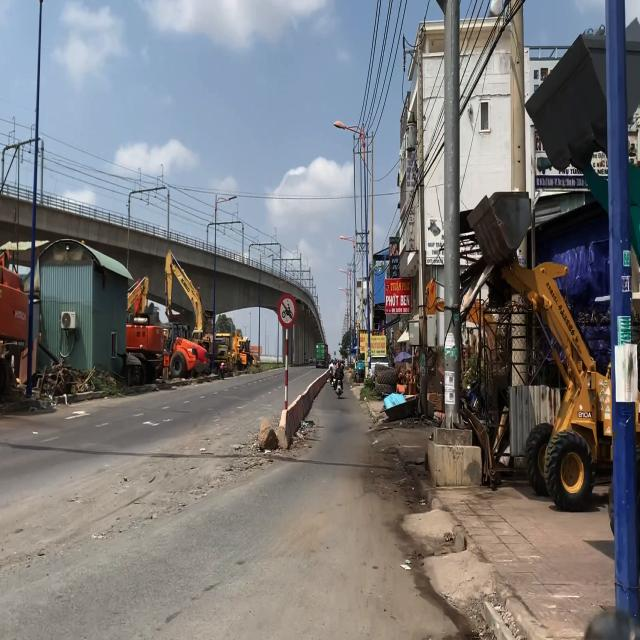Cam con lai: (278, 294, 296, 326)
